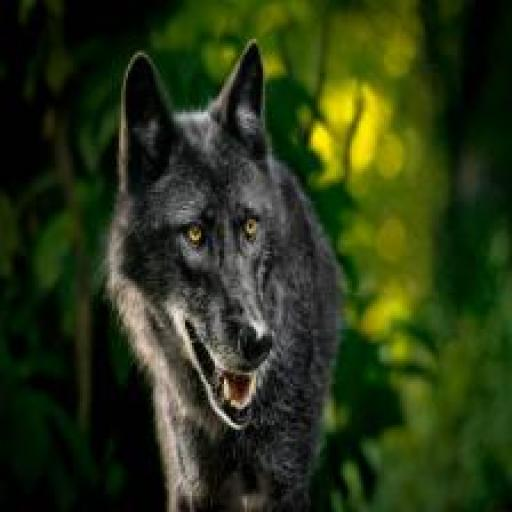wolf: (64, 20, 439, 512)
